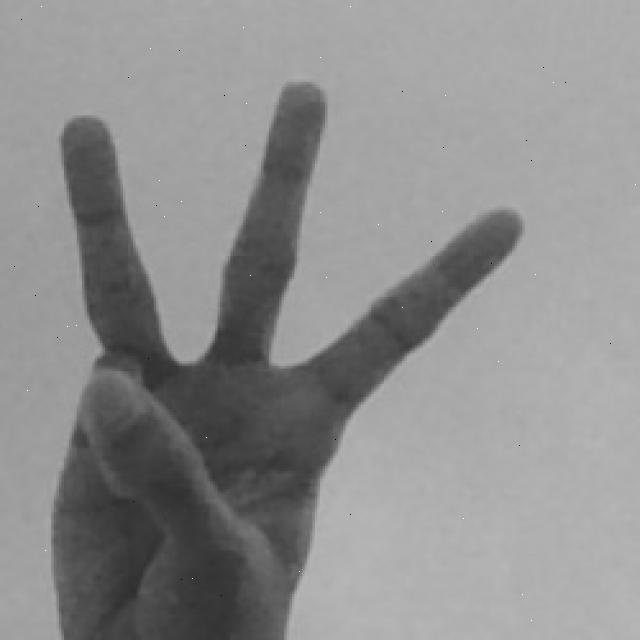W: (35, 73, 529, 640)
